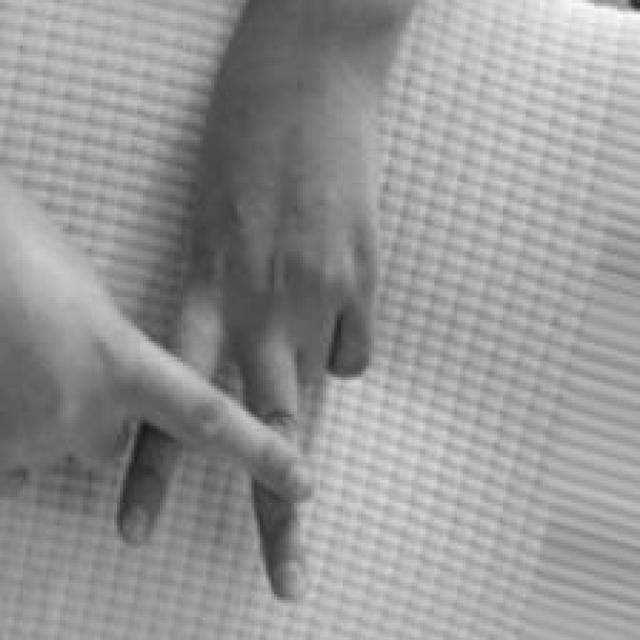A: (0, 158, 382, 606)
